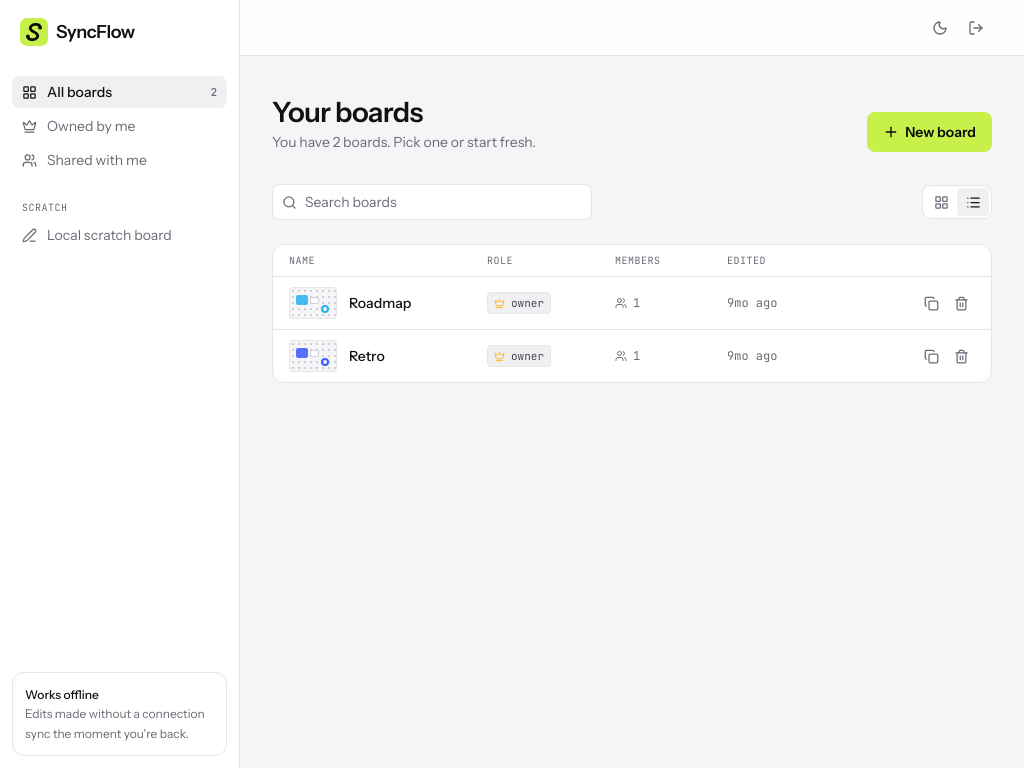
Scenario: DashboardPage › keeps every failure when overlapping actions fail
Click the button named "duplicate roadmap".
click(931, 303)  # box [917,289,945,317]
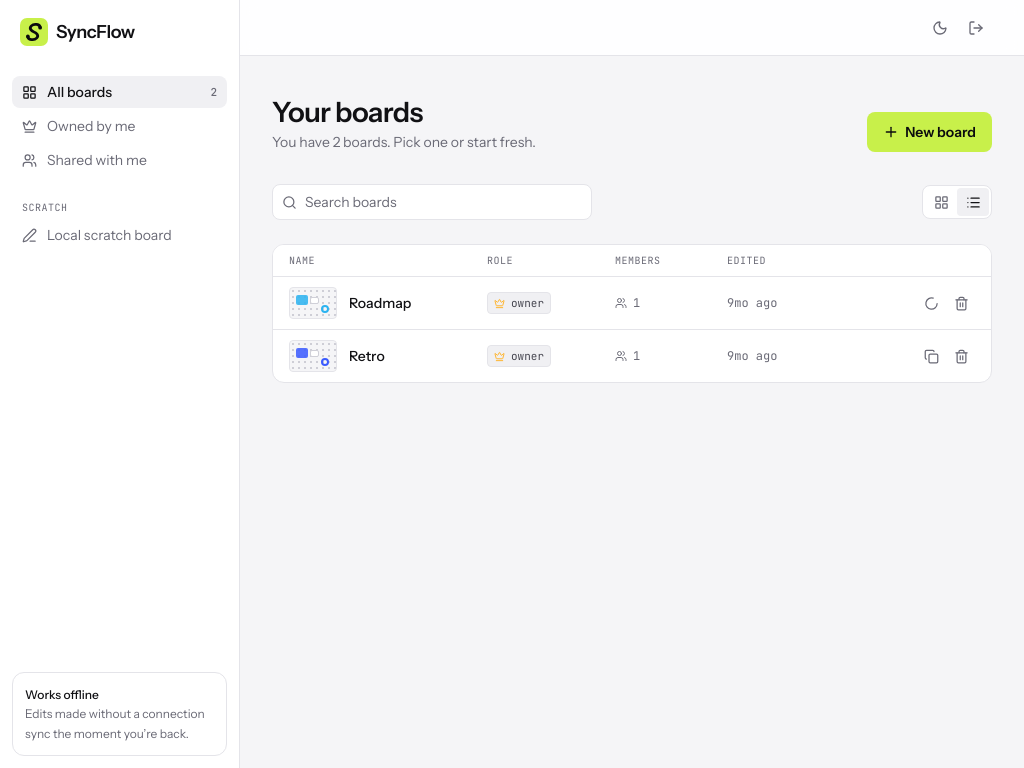
Click the button named "duplicate retro".
click(931, 356)  # box [917,342,945,370]
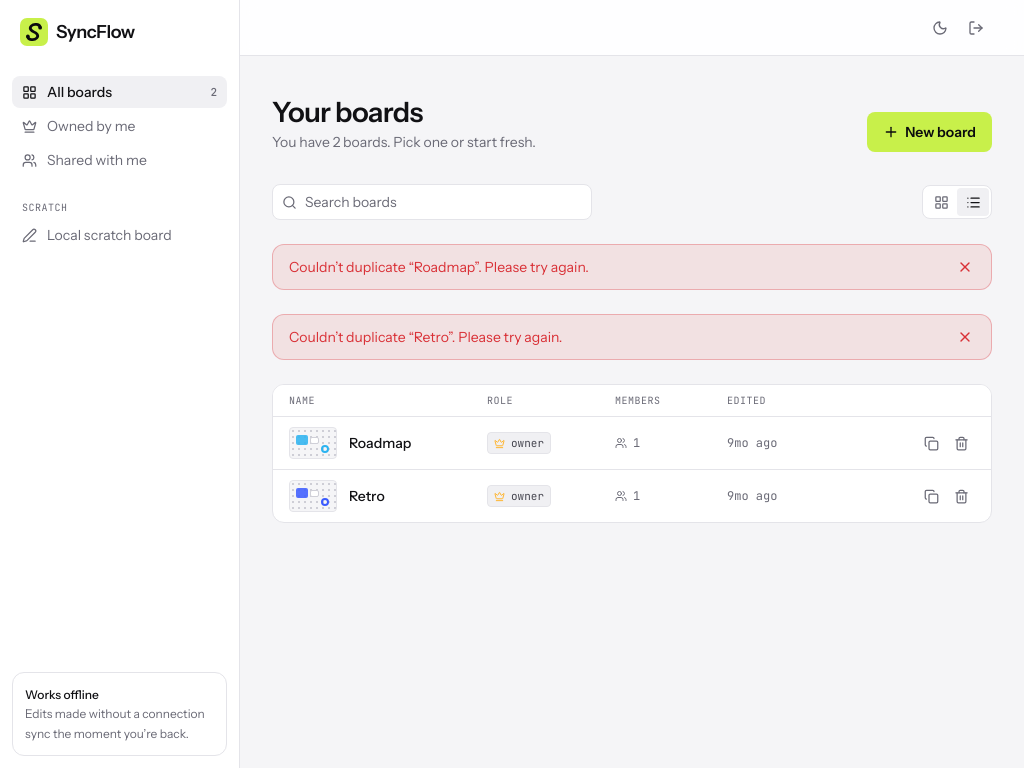
Now the number of messages is 2, box [272,244,992,290]; [272,314,992,360]
Now the text "Couldn’t duplicate “Roadmap”. Please try again." is shown, box [289,257,589,277]
Now the text "Couldn’t duplicate “Retro”. Please try again." is shown, box [289,327,562,347]
